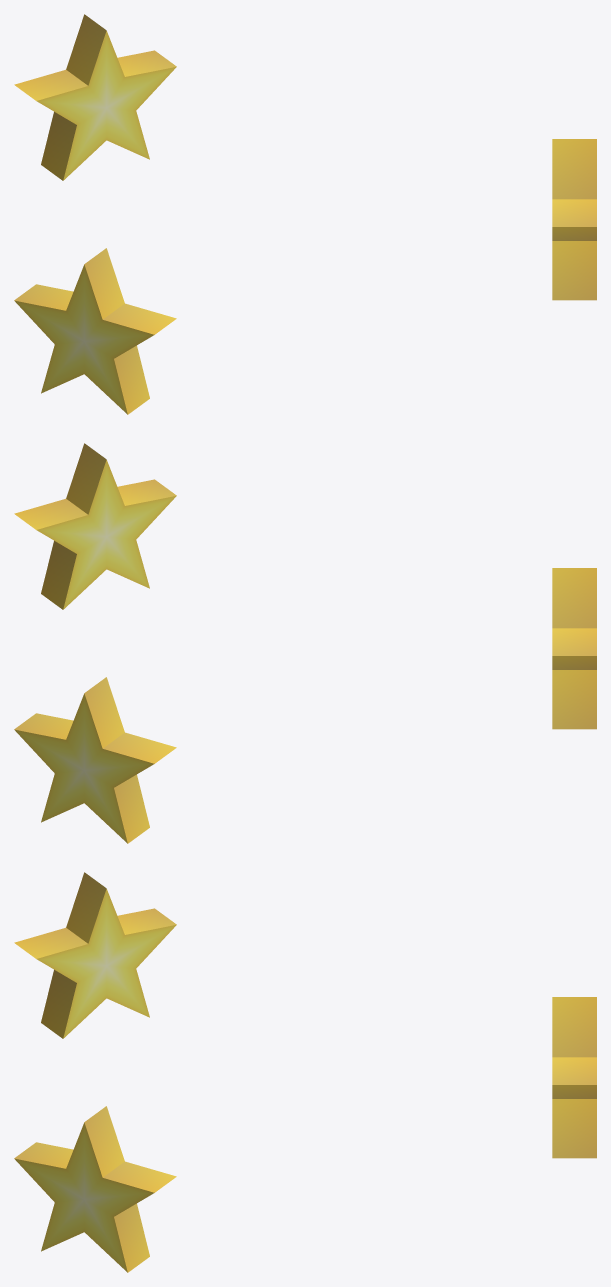
Rendered from petrify_stars.fbx.
3 views of the same model, one above another, from view 1: azimuth 30°, elevation 25°; view 2: azimuth 150°, elevation 25°; view 3: azimuth 270°, elevation 25° (orthographic).
Parts seen in each view (by area): view 1: petrify_stars; view 2: petrify_stars; view 3: petrify_stars.
Boxes of the visible parts, x1=… form: petrify_stars: x1=14, y1=14, x2=596, y2=414; petrify_stars: x1=14, y1=443, x2=596, y2=843; petrify_stars: x1=14, y1=872, x2=596, y2=1272.
Bounding box in the file's own units: 1.77 × 0.4077 × 1.54.
1 material, 1 textured.
